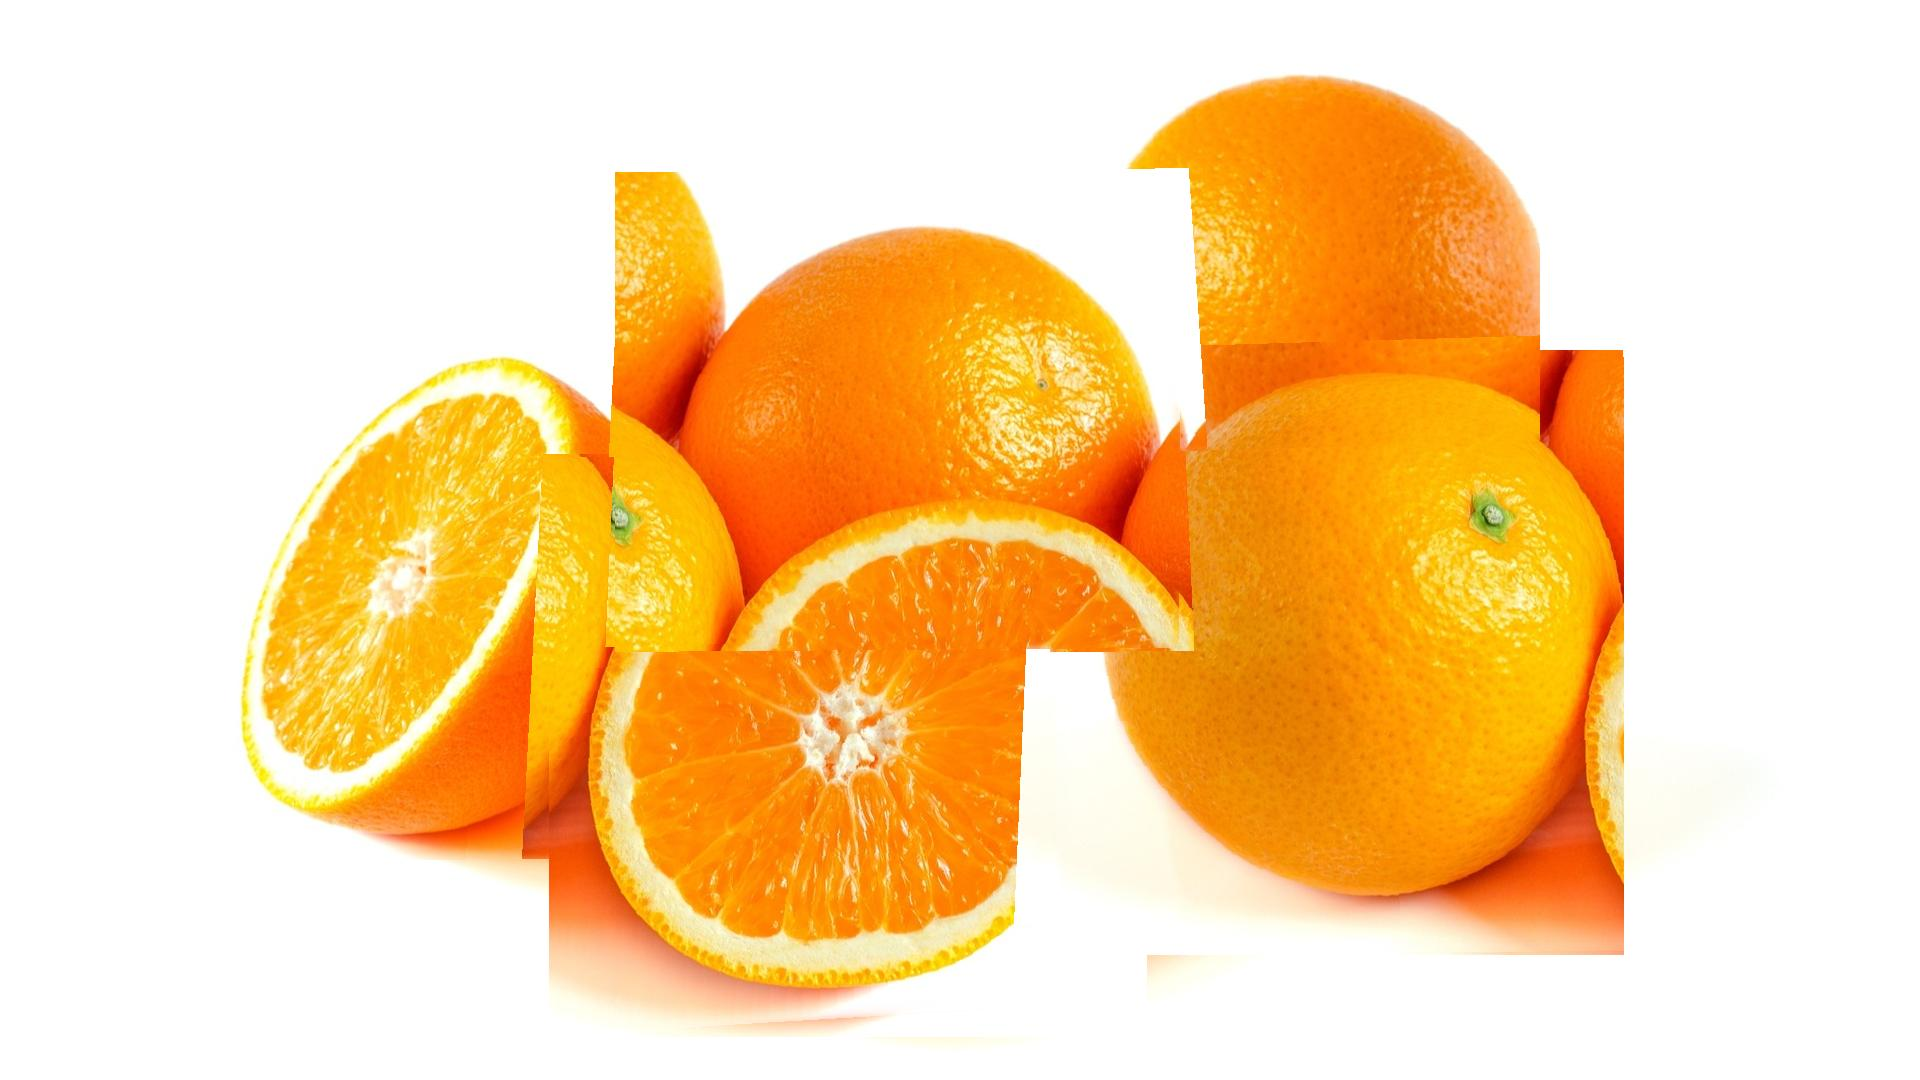Orange Fresh: (1038, 349, 1625, 955), (550, 458, 1147, 1038), (156, 340, 720, 862), (616, 173, 1183, 653), (1030, 70, 1540, 455)
